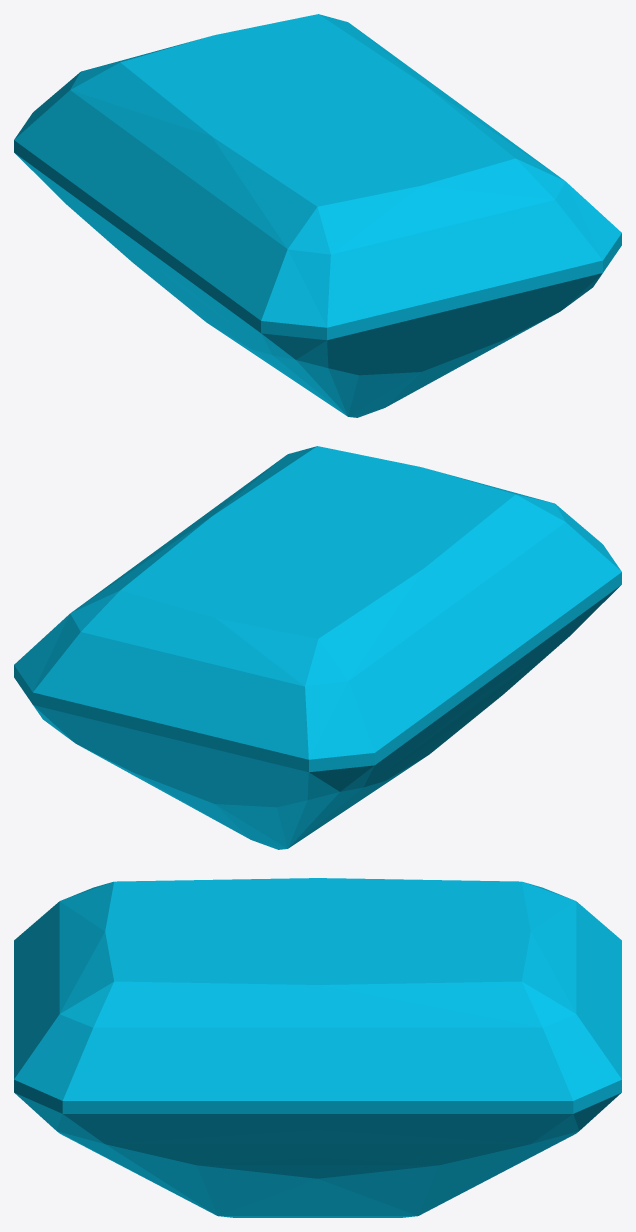
File: Head_Hidden Halo_Radiant_2.0ct_Diamond.glb
The picture shows the model from 3 angles, top to bottom: view 1: azimuth 30°, elevation 25°; view 2: azimuth 150°, elevation 25°; view 3: azimuth 270°, elevation 25°; orthographic projection. The views are drawn at different scales.
Bounding box in the file's own units: 0.0064 × 0.00471 × 0.00904.
